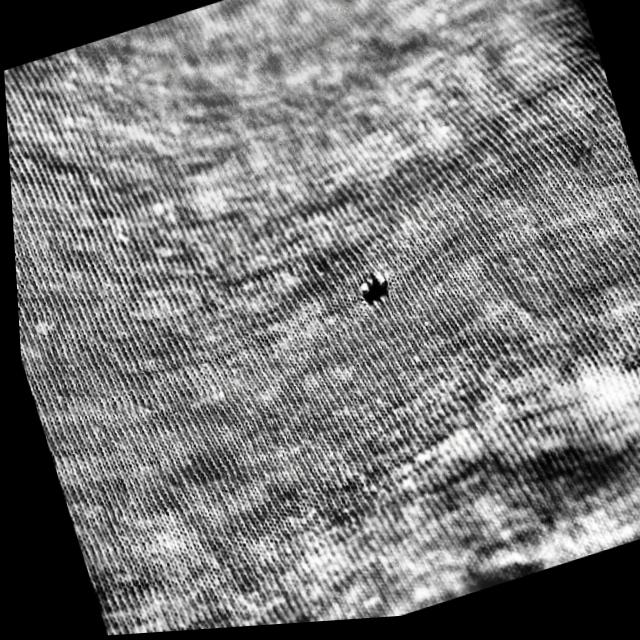Hole: (313, 229, 435, 359)
